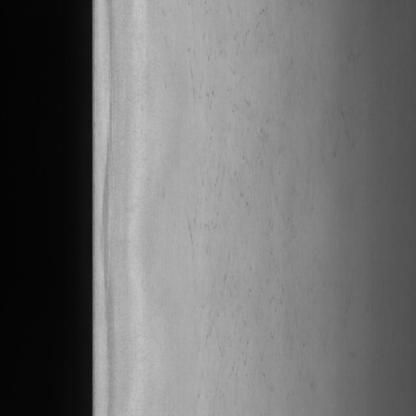silk_spot: (184, 76, 295, 390)
